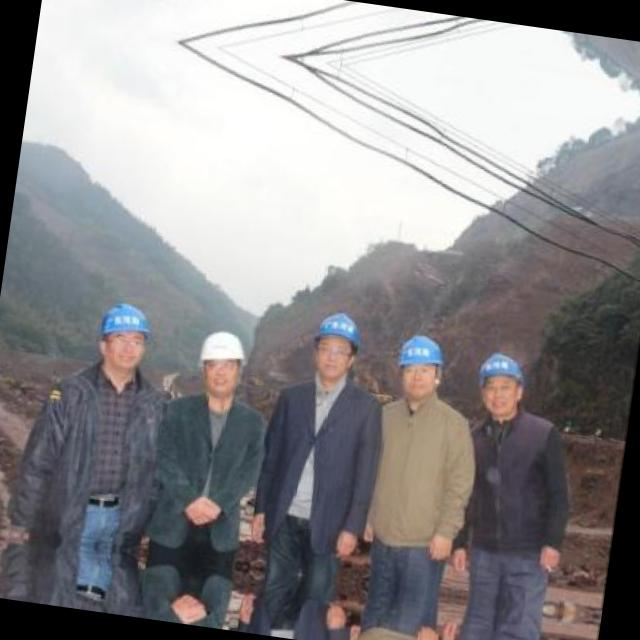helmet: (384, 323, 457, 408), (88, 294, 158, 378), (188, 321, 254, 406), (304, 303, 370, 385), (471, 342, 532, 418)
